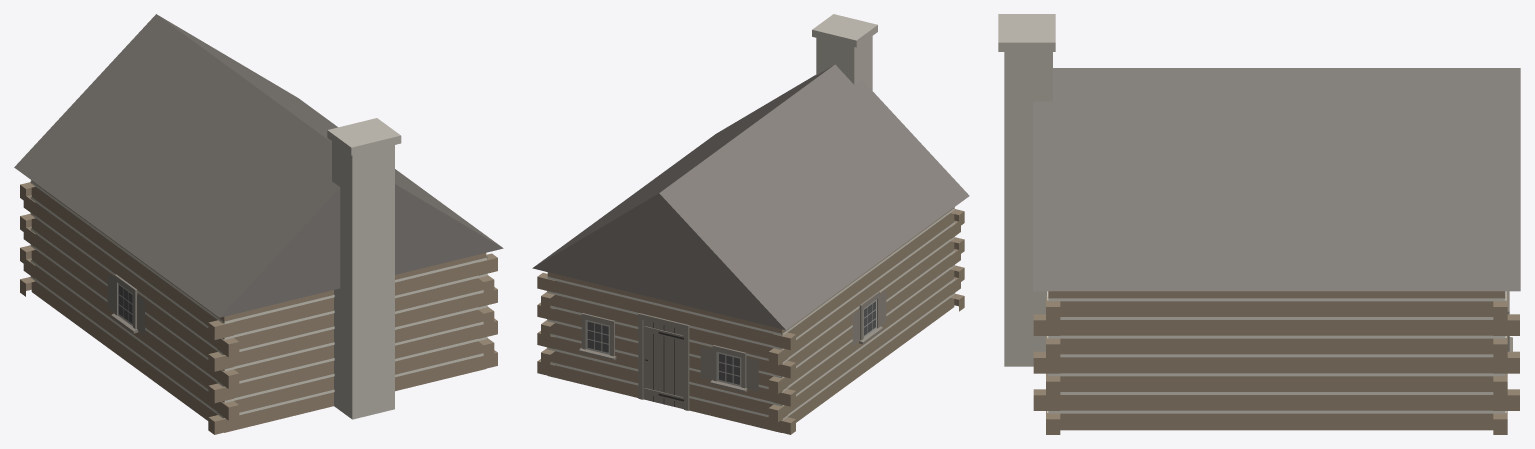
File: recon_1835_blk_randolph_dearborn_d1_04__inferred_1835.glb
The picture shows the model from 3 angles, left to right: view 1: azimuth 30°, elevation 25°; view 2: azimuth 150°, elevation 25°; view 3: azimuth 270°, elevation 25°; orthographic projection. The views are drawn at different scales.
Visible parts, largest first — view 1: recon_1835_blk_randolph_dearborn_d1_04__inferred_1835; view 2: recon_1835_blk_randolph_dearborn_d1_04__inferred_1835; view 3: recon_1835_blk_randolph_dearborn_d1_04__inferred_1835.
Boxes of the visible parts, left/top/right/bottom form: recon_1835_blk_randolph_dearborn_d1_04__inferred_1835: left=14, top=14, right=503, bottom=434; recon_1835_blk_randolph_dearborn_d1_04__inferred_1835: left=532, top=14, right=969, bottom=434; recon_1835_blk_randolph_dearborn_d1_04__inferred_1835: left=998, top=14, right=1520, bottom=434.
Size of the model in its own units: 6.41 by 5.92 by 8.59.
